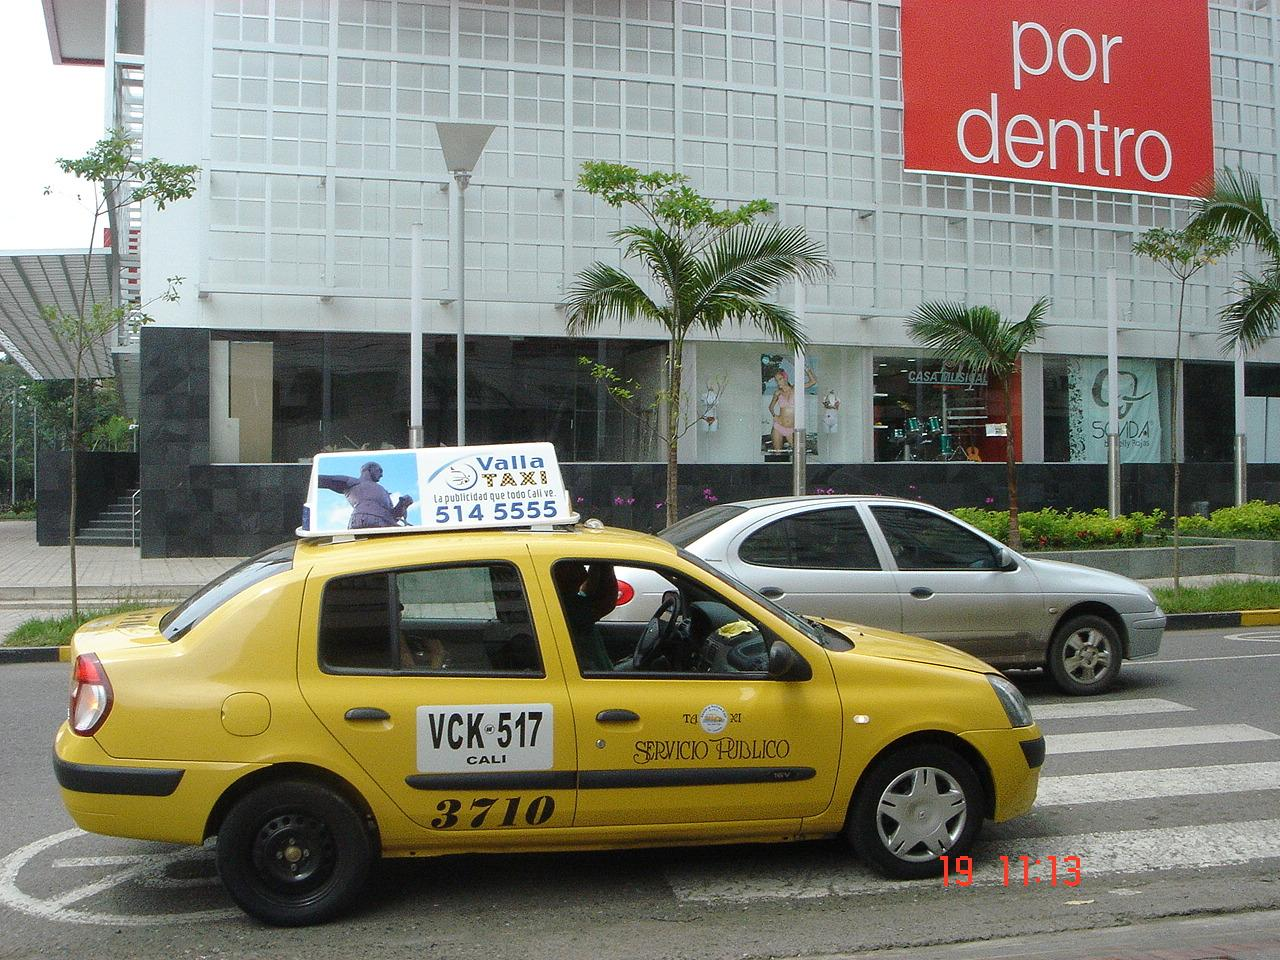taxi: (41, 553, 1127, 868)
